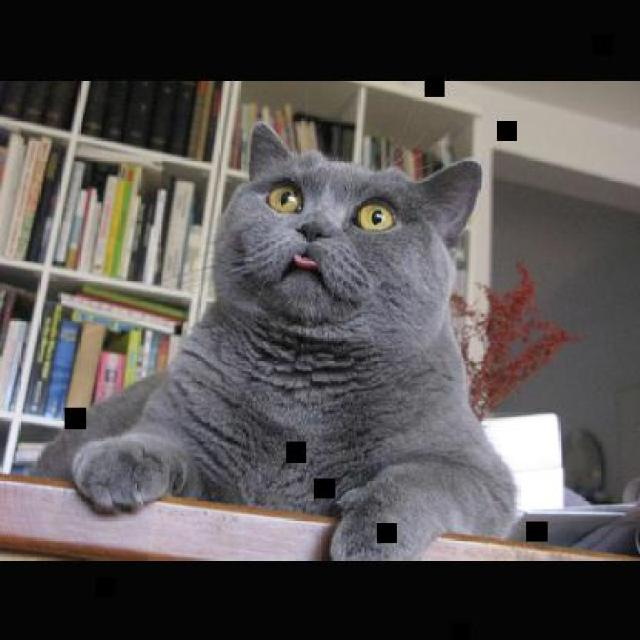unauthorized: (43, 118, 525, 560)
